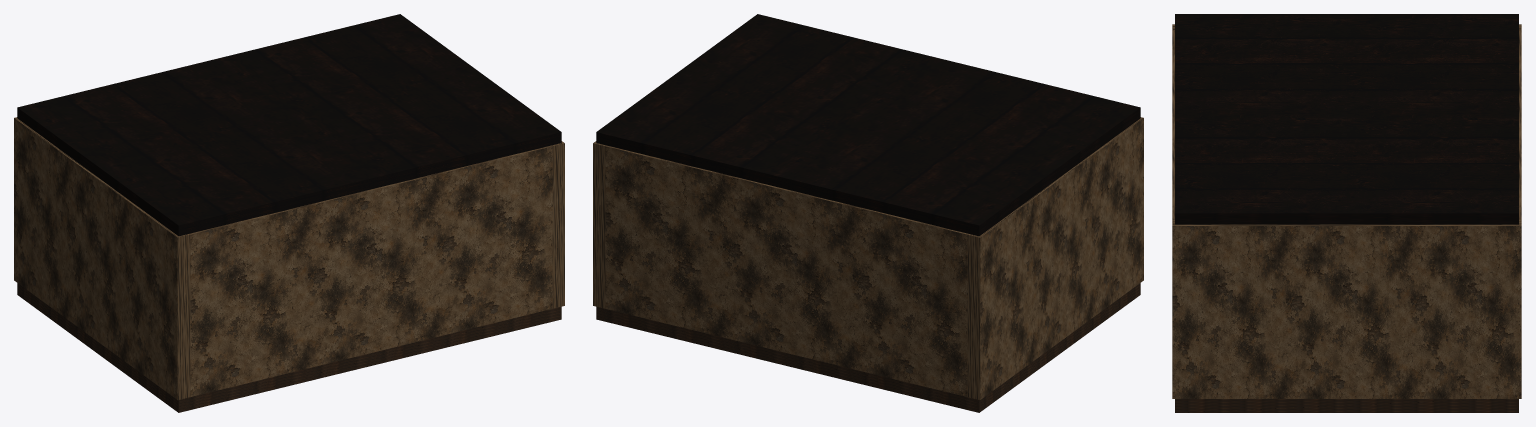
The picture shows the model from 3 angles, left to right: view 1: azimuth 30°, elevation 25°; view 2: azimuth 150°, elevation 25°; view 3: azimuth 270°, elevation 25°; orthographic projection. The views are drawn at different scales.
Visible parts, largest first — view 1: 封閉調查區_final14_A; view 2: 封閉調查區_final14_A; view 3: 封閉調查區_final14_A.
Boxes of the visible parts, <box> form: 封閉調查區_final14_A: <box>14,14,564,412</box>; 封閉調查區_final14_A: <box>593,14,1143,412</box>; 封閉調查區_final14_A: <box>1172,14,1521,412</box>.
Size of the model in its own units: 7.48 by 3.46 by 5.48.
20 materials, 16 textured.
